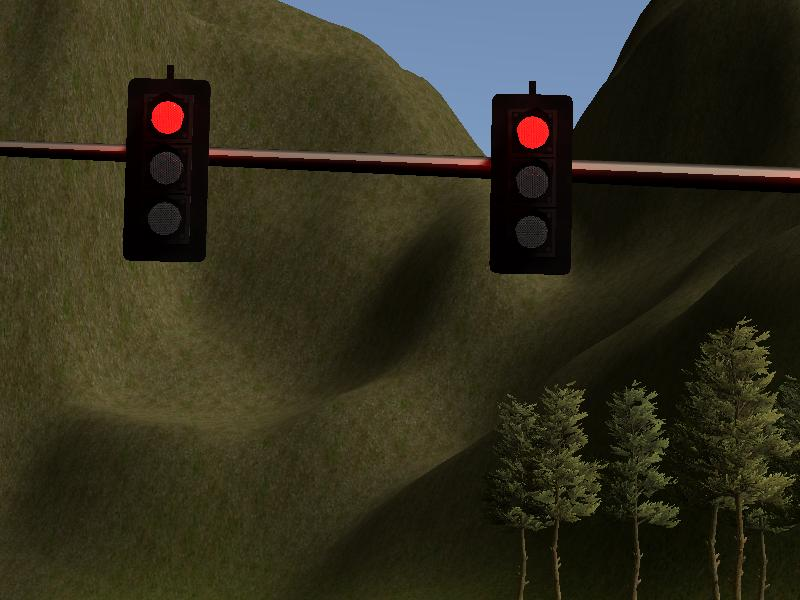Red: (129, 79, 208, 262), (492, 94, 569, 275)
